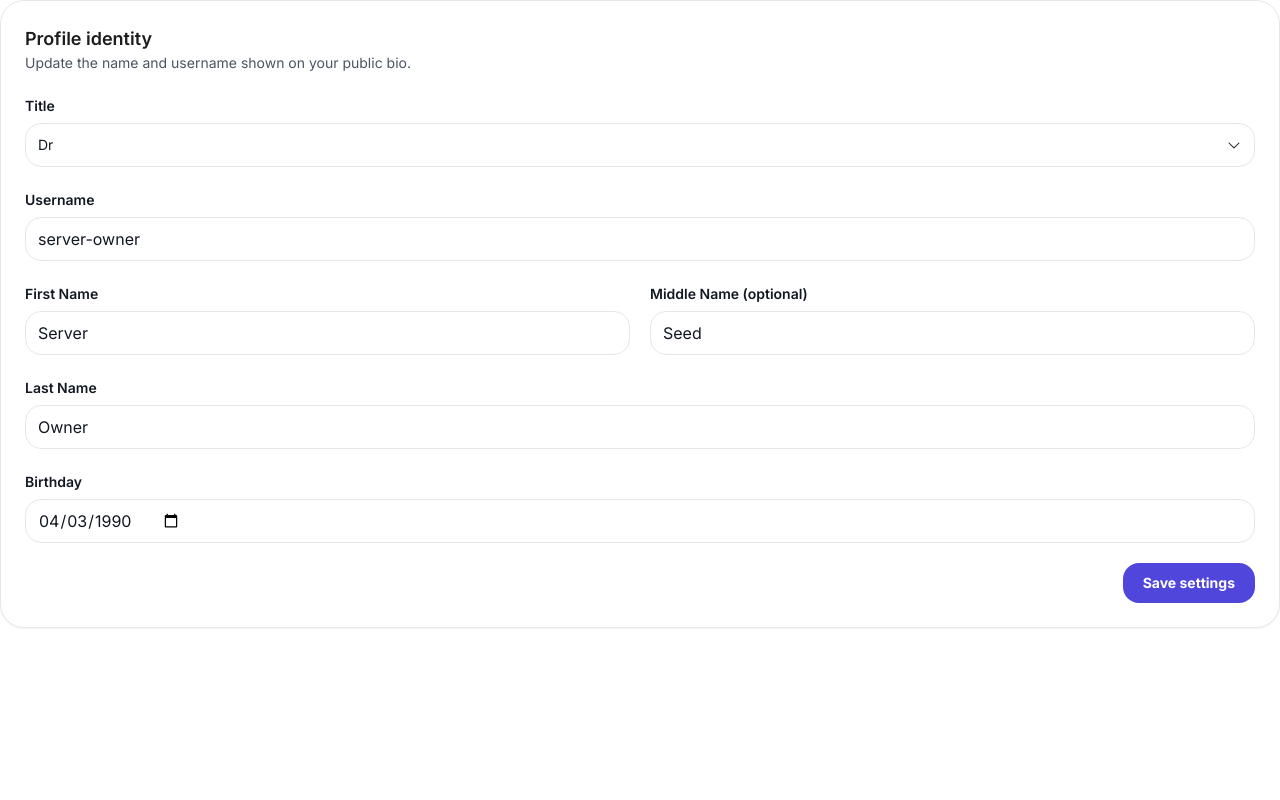
SettingsForm server seed and save mutation › preserves edits and exposes a server field error
Replace the text in the field labelled "First Name" with "Still here" at coordinates (328, 333), box [25,311,630,355]
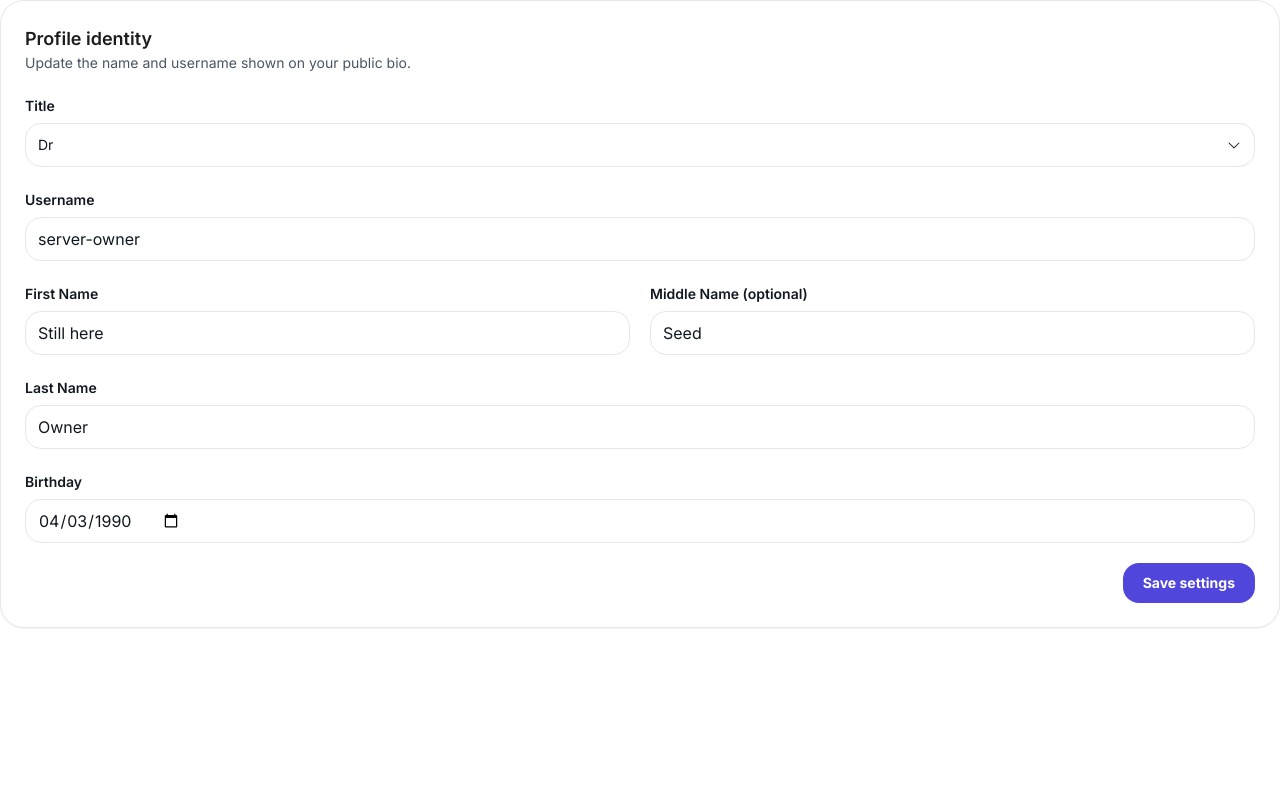
Click the button "Save settings" at coordinates (1189, 583), box [1123,563,1255,603]
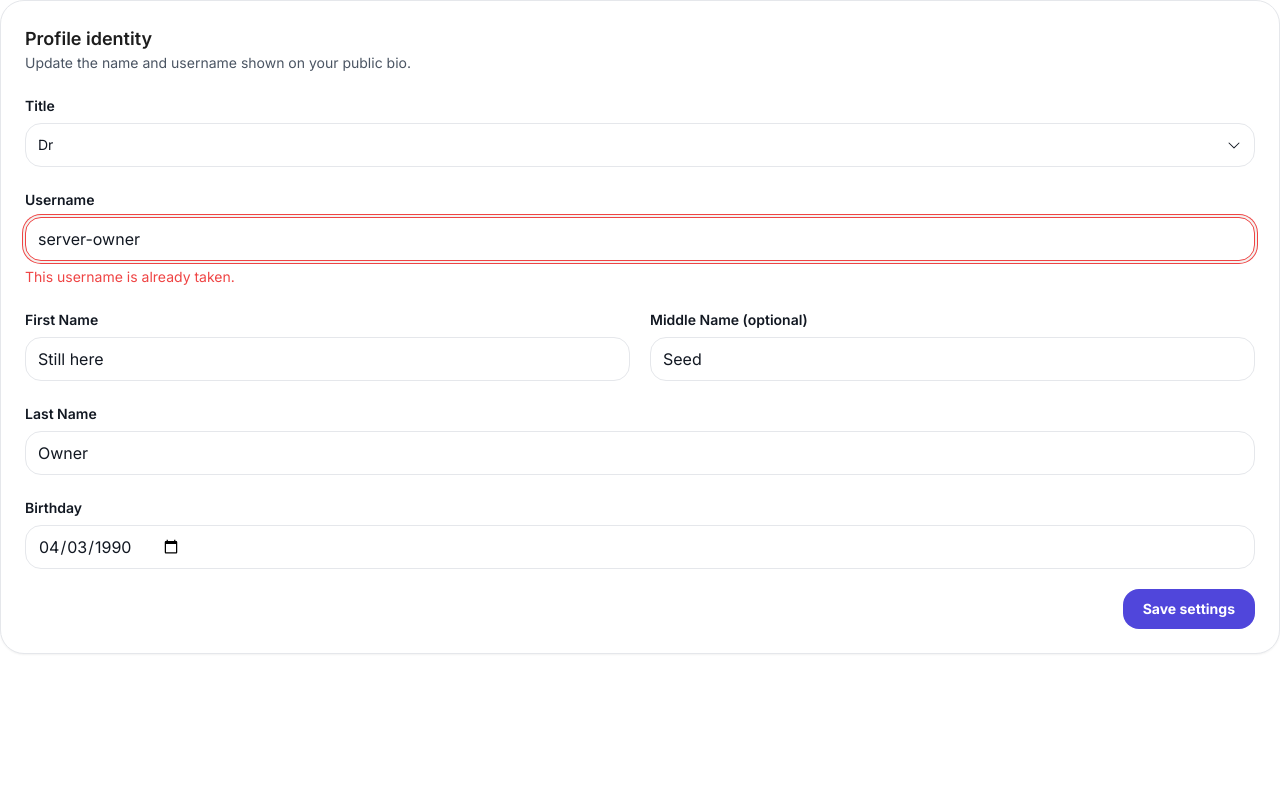
Check: the text "This username is already taken." is shown, box [25,268,235,285]
